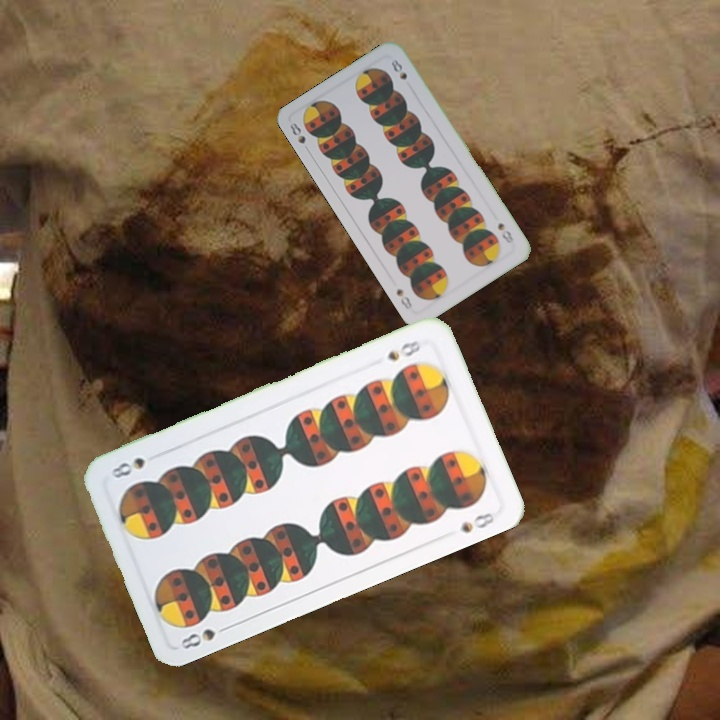S8: (176, 621, 234, 652), (383, 336, 425, 364), (286, 118, 313, 156), (494, 219, 516, 246)
